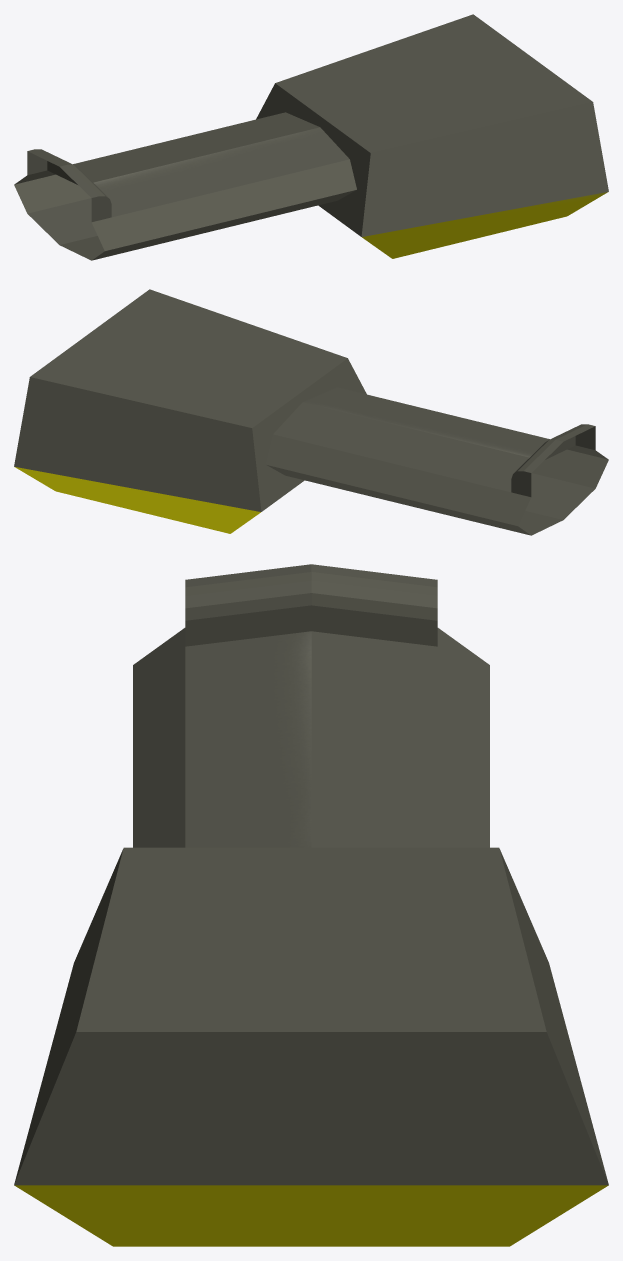
File: spotlight.obj
3 renders of one model, top to bottom at view 1: azimuth 30°, elevation 25°; view 2: azimuth 150°, elevation 25°; view 3: azimuth 270°, elevation 25°, orthographic. The views are drawn at different scales.
Parts seen in each view (by area): view 1: spotlight_Cube.001_Cube.001; view 2: spotlight_Cube.001_Cube.001; view 3: spotlight_Cube.001_Cube.001.
Boxes of the visible parts, <box> form: spotlight_Cube.001_Cube.001: <box>14,14,608,260</box>; spotlight_Cube.001_Cube.001: <box>14,289,608,535</box>; spotlight_Cube.001_Cube.001: <box>14,564,608,1246</box>.
Bounding box in the file's own units: 0.9026 × 0.2265 × 0.5.
